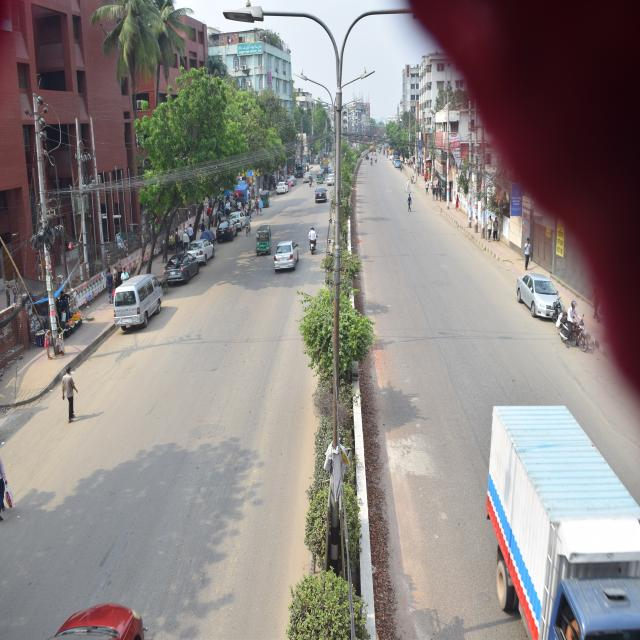car: (514, 260, 567, 322), (157, 242, 199, 290), (274, 234, 302, 279), (190, 231, 215, 271), (232, 201, 248, 231), (217, 216, 236, 241), (274, 176, 288, 196), (313, 181, 322, 201)
microbus: (108, 269, 166, 339)
motorbike: (554, 303, 594, 355), (306, 228, 322, 256)
pickup-van: (466, 391, 640, 640)
